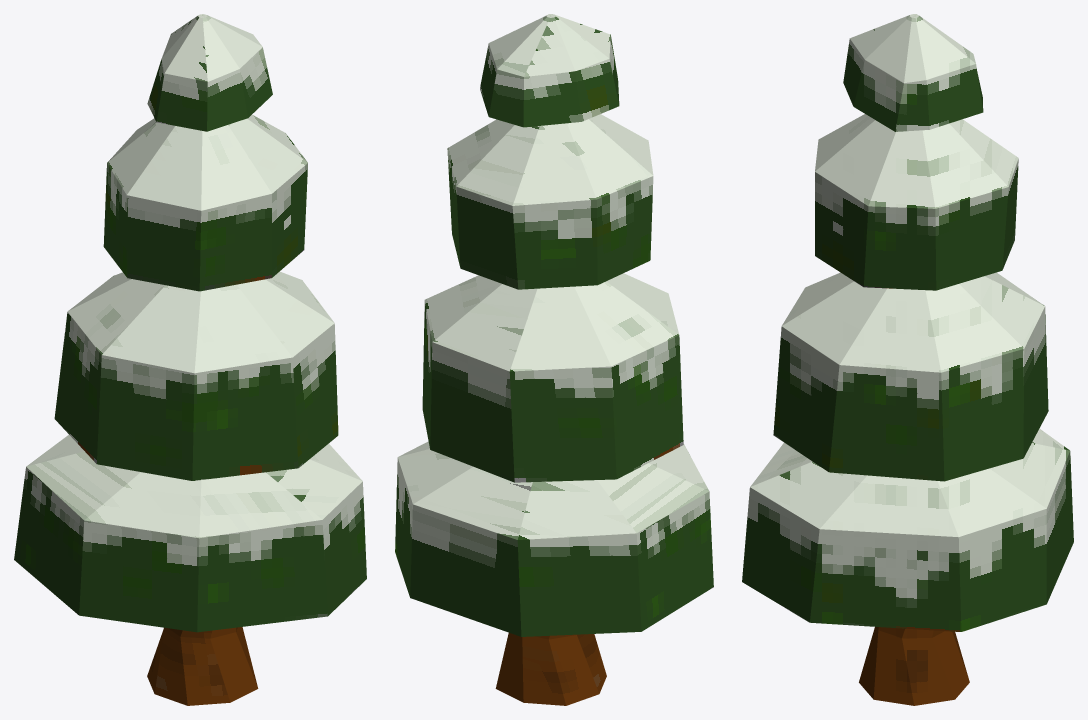
The model's file is SnowyTree1.glb.
3 renders of one model, left to right at view 1: azimuth 30°, elevation 25°; view 2: azimuth 150°, elevation 25°; view 3: azimuth 270°, elevation 25°, orthographic.
Parts seen in each view (by area): view 1: Plane; view 2: Plane; view 3: Plane.
Part boxes in pixels (<box>): Plane: <box>14,14,366,705</box>; Plane: <box>395,14,713,705</box>; Plane: <box>742,14,1073,705</box>.
Bounding box in the file's own units: 5.26 × 12.14 × 5.48.
1 material, 1 textured.
